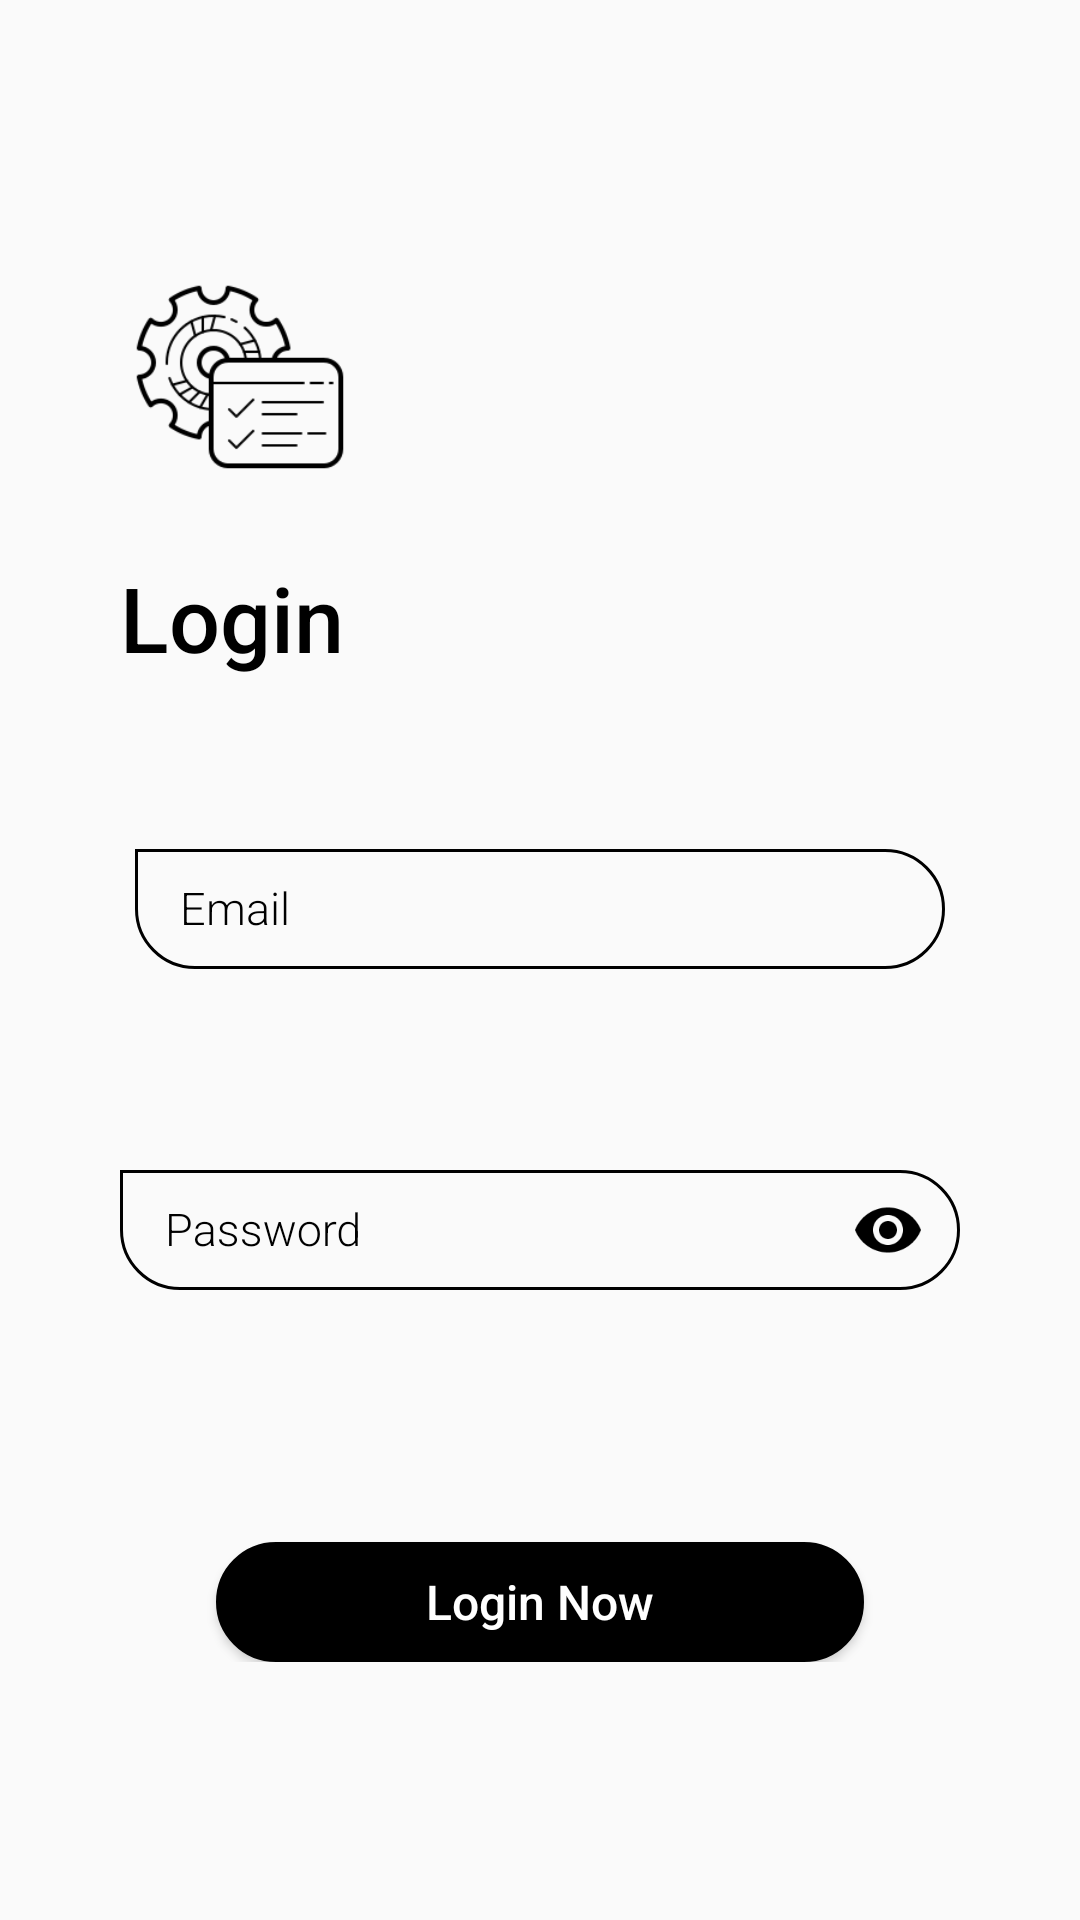

Locate icon controls on the screen. Image size 1080x1920, boxes as (x1, y1, x2, y2).
administrative tools: (136, 285, 344, 469)
